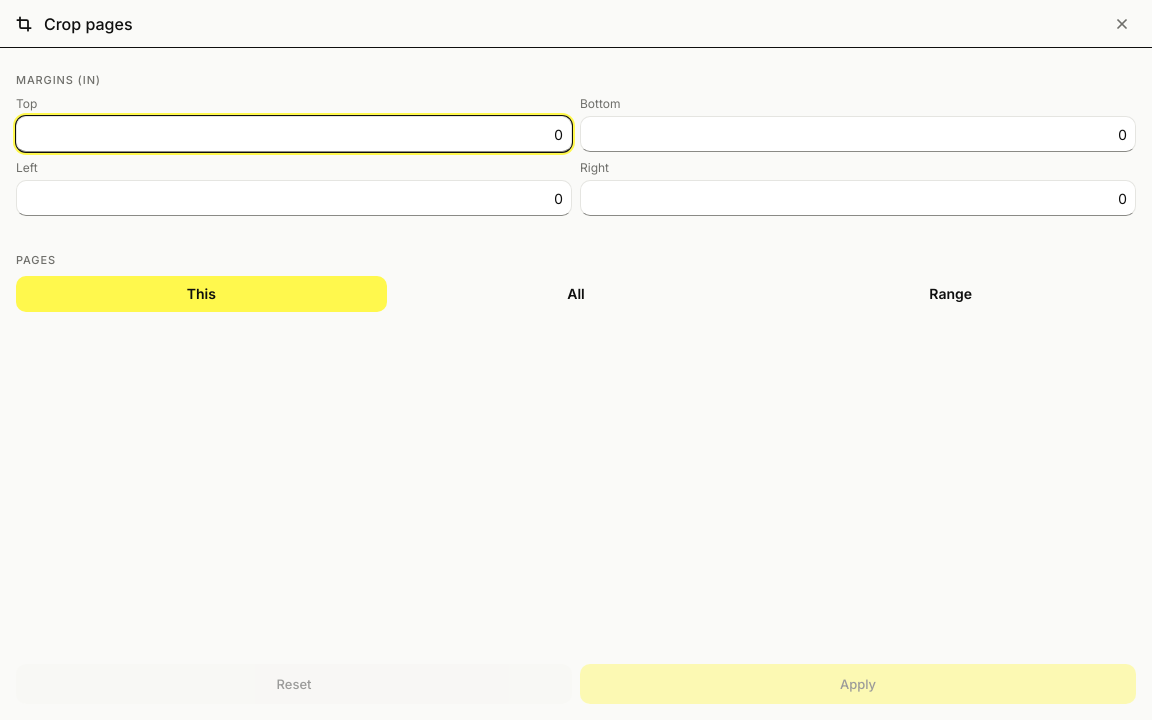
it: the inspector › flags a size under the minimum and keeps the rectangle
The width and height of the screenshot is (1152, 720).
Step 1. Replace the text in the field labelled "Left" with "8" → (294, 198), box [16,180,572,216]
Then press Enter
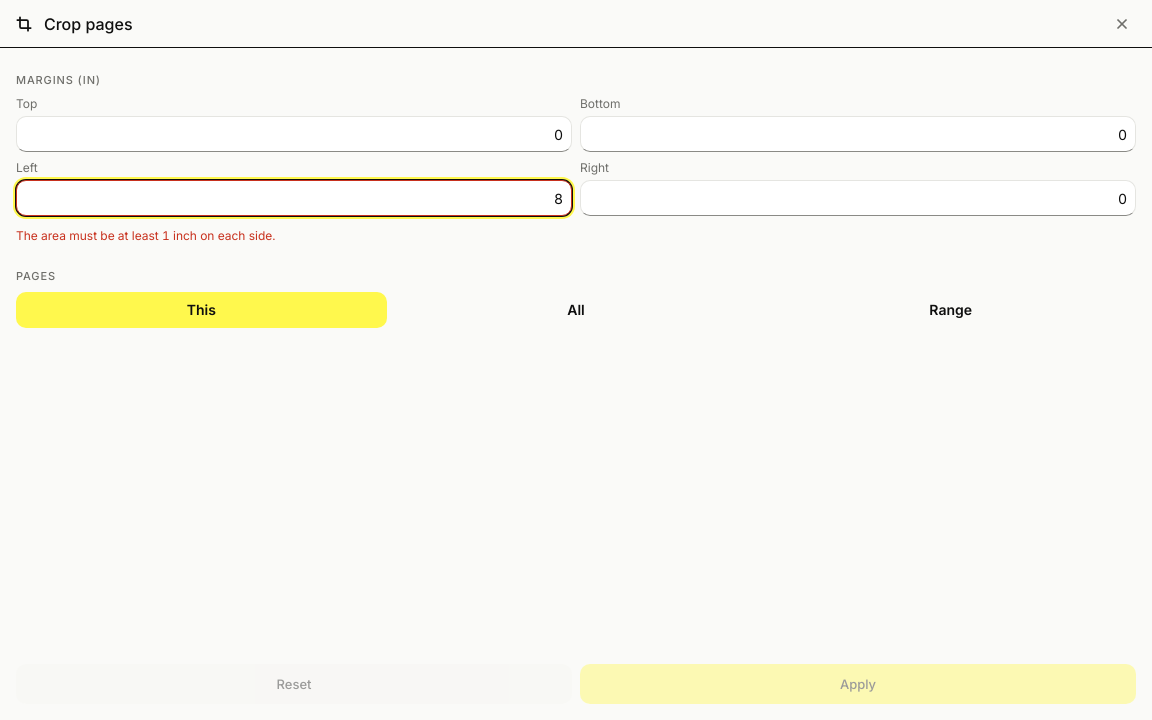
Expected: the text "The area must be at least 1 inch on each side." is shown, [16,228,276,243]
